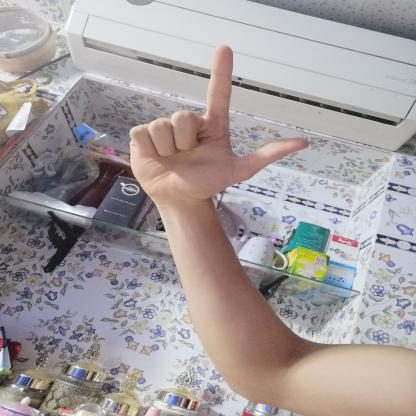LAAM: (109, 34, 322, 217)
